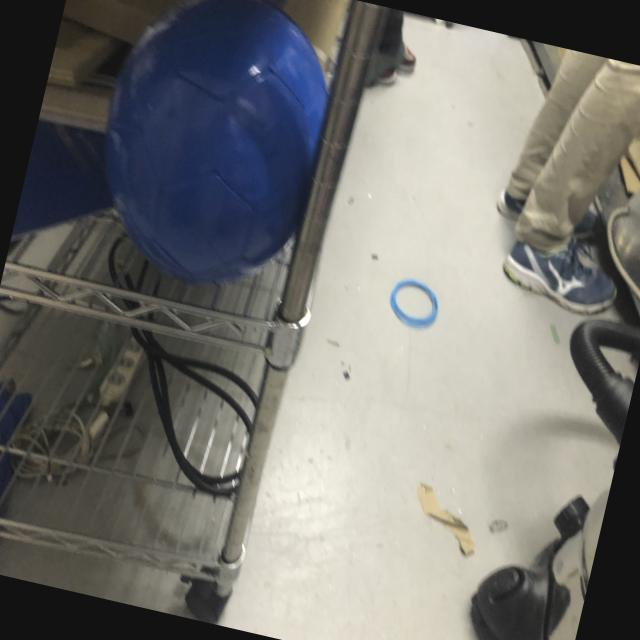blue_ball: (75, 0, 348, 304)
